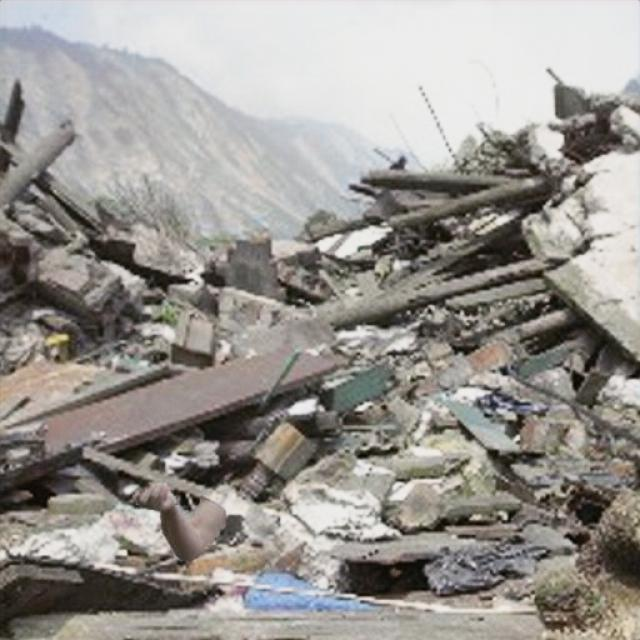Person in Rubble: (132, 482, 225, 560)
